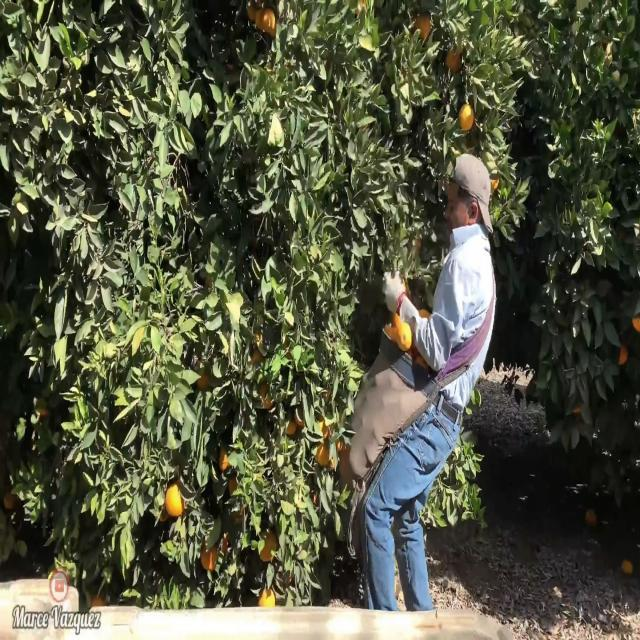Jeruk Sudah Matang: (162, 476, 190, 528), (392, 316, 417, 356), (456, 96, 476, 136)
